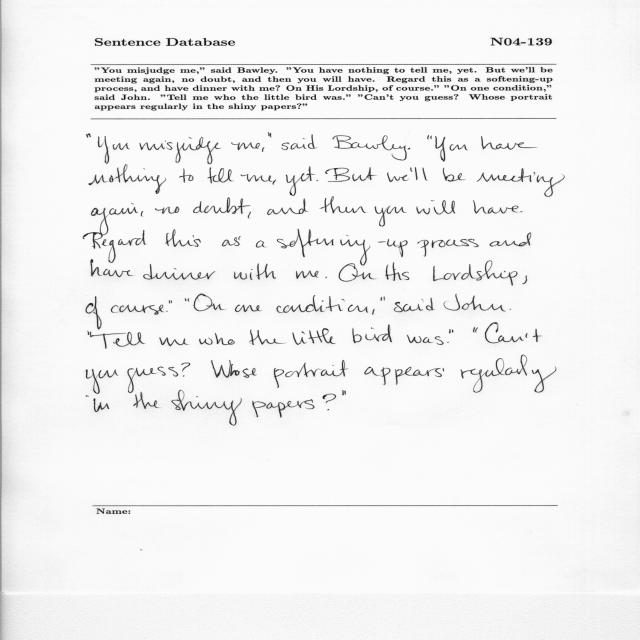word: (277, 229, 408, 266), (461, 355, 557, 393), (274, 360, 348, 395), (476, 168, 565, 197), (83, 203, 138, 249), (89, 164, 166, 194), (172, 394, 242, 426), (140, 137, 222, 164), (433, 261, 518, 286), (332, 136, 407, 161), (276, 295, 368, 313), (102, 230, 147, 263), (127, 367, 184, 393), (364, 367, 444, 385), (485, 323, 542, 344), (253, 399, 315, 418), (143, 264, 215, 280), (444, 294, 506, 312), (87, 331, 145, 349), (193, 197, 251, 214), (417, 239, 469, 257), (98, 136, 130, 164), (286, 166, 315, 196), (435, 136, 468, 162), (211, 360, 257, 378), (86, 369, 119, 394), (481, 136, 537, 150), (320, 197, 366, 214), (352, 324, 392, 343), (91, 260, 134, 277), (293, 328, 336, 345), (339, 263, 376, 282), (267, 198, 308, 215), (375, 206, 407, 227), (234, 264, 276, 280), (165, 229, 201, 247), (490, 232, 532, 247), (417, 200, 456, 215), (473, 201, 518, 214), (282, 134, 318, 150), (394, 298, 435, 312), (249, 330, 286, 345), (194, 294, 226, 311), (111, 305, 164, 315), (86, 296, 102, 329), (385, 262, 410, 281), (207, 167, 234, 184), (133, 393, 160, 409), (86, 395, 109, 412), (241, 174, 276, 185), (407, 335, 443, 345), (325, 168, 350, 182), (352, 167, 377, 181), (443, 168, 465, 181), (159, 338, 189, 347), (214, 333, 235, 345), (410, 167, 428, 180), (232, 142, 261, 150), (180, 168, 194, 183), (296, 270, 318, 279), (222, 236, 241, 246), (387, 173, 408, 182), (235, 305, 262, 312), (155, 207, 180, 214), (323, 394, 336, 404), (181, 363, 190, 377), (199, 338, 213, 345), (468, 239, 479, 247), (256, 241, 266, 248), (522, 276, 527, 284), (473, 327, 478, 333), (86, 133, 91, 138), (380, 296, 385, 301), (248, 212, 251, 219), (268, 133, 272, 138), (427, 135, 432, 139), (372, 309, 375, 315), (185, 298, 189, 302), (449, 329, 453, 333), (141, 211, 143, 217), (169, 300, 172, 304), (262, 147, 264, 152), (408, 148, 411, 149), (520, 211, 523, 212), (317, 180, 319, 181), (325, 277, 327, 278), (166, 311, 168, 312), (447, 342, 449, 343), (328, 409, 330, 410), (510, 309, 511, 310)
